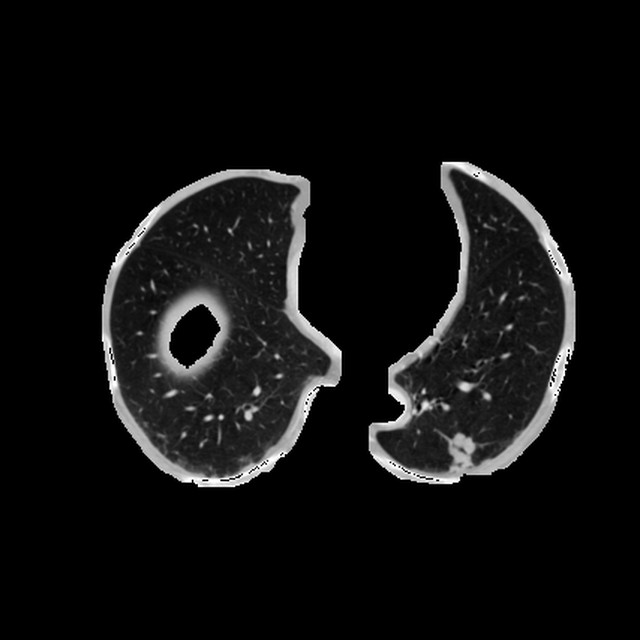PN: (451, 439, 475, 463)
